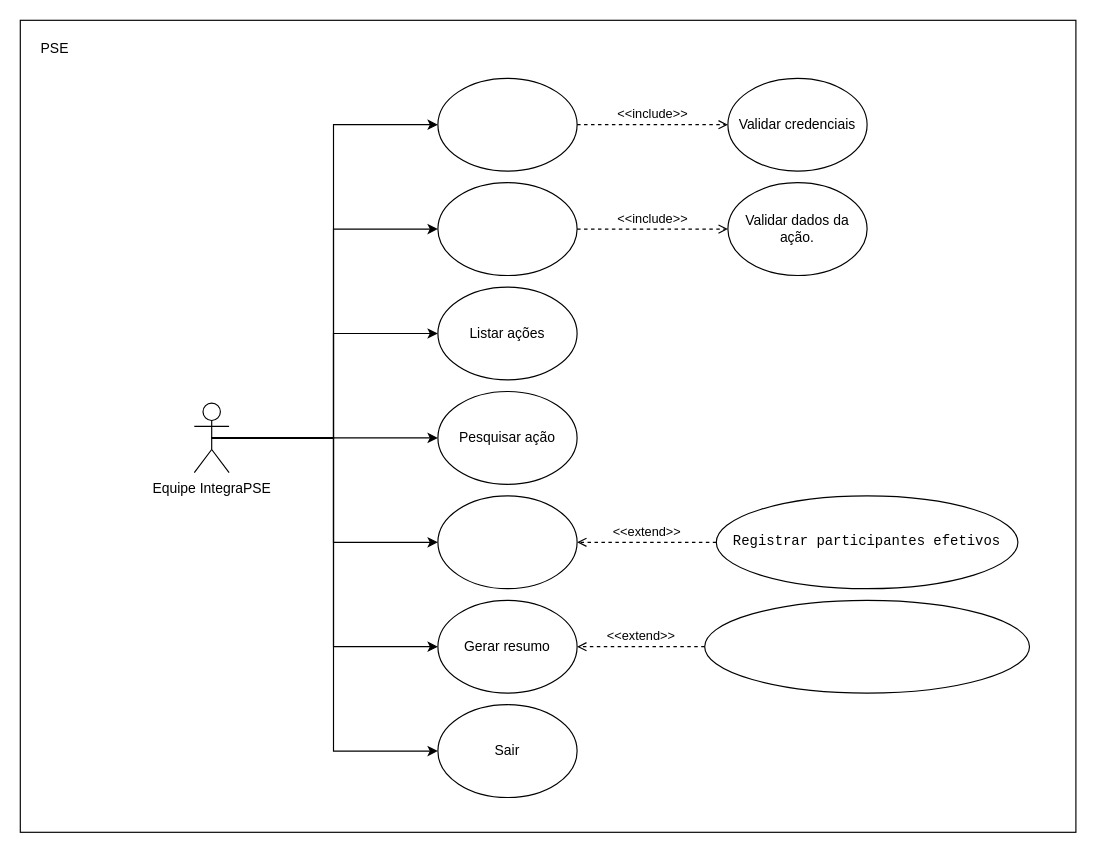
Some shapes in this 1096 by 853 pixel diagram are drawn without their labels. The shapes that lost their labels are listed below. From the top down, each one's centre as x and y in pixels, then its label:
At (x=507, y=124): "Realizar login".
At (x=507, y=229): "Cadastrar ação".
At (x=507, y=542): "Atualizar situação".
At (x=867, y=646): "Calcular percentual de participação".
